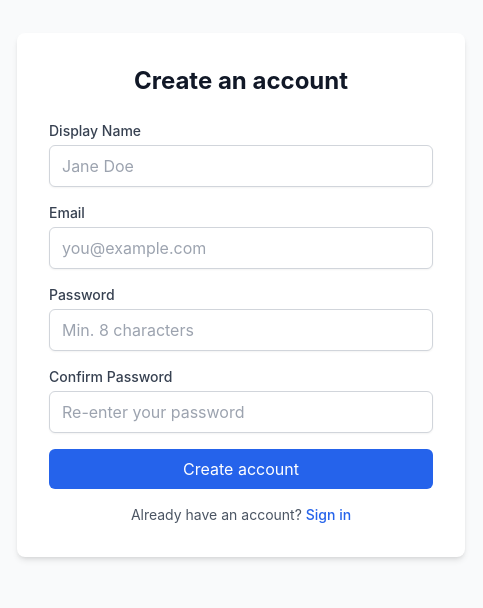
Test case: RegisterPage › should show error when passwords do not match
Type "New User" into the field labelled "Display Name".
click(241, 166); type("New User")  # box [49,145,433,187]
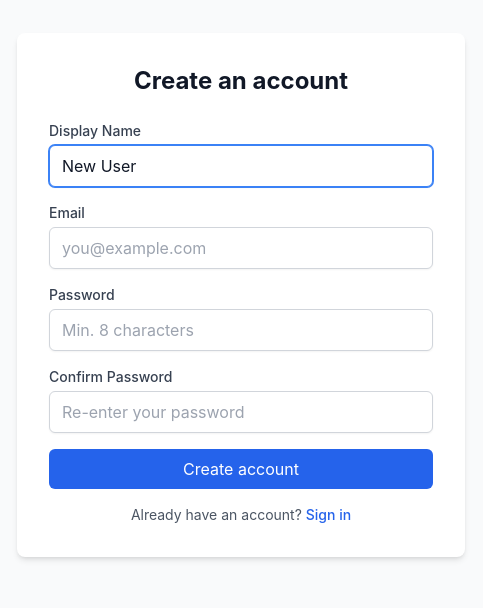
Type "newuser@example.com" into the field labelled "Email".
click(241, 248); type("newuser@example.com")  # box [49,227,433,269]
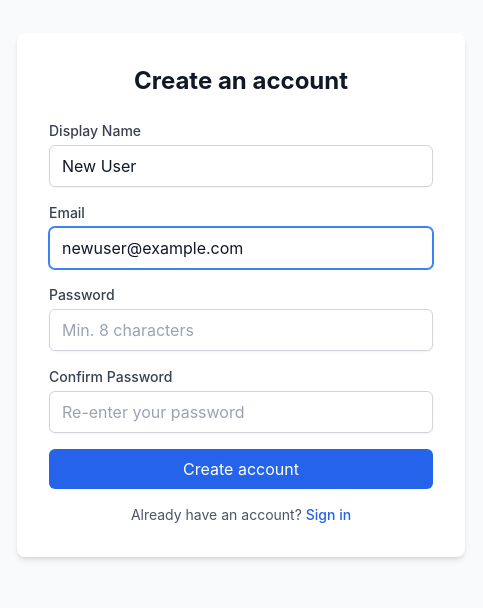
Type "password123" into the password field labelled "Password".
click(241, 330); type("password123")  # box [49,309,433,351]
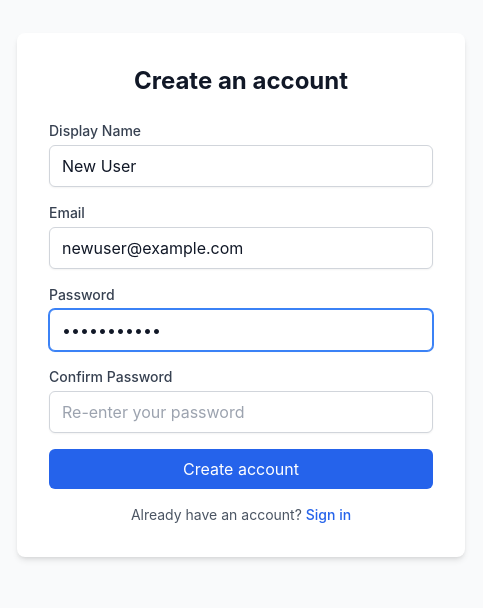
Type "different" into the password field labelled "Confirm Password".
click(241, 412); type("different")  # box [49,391,433,433]
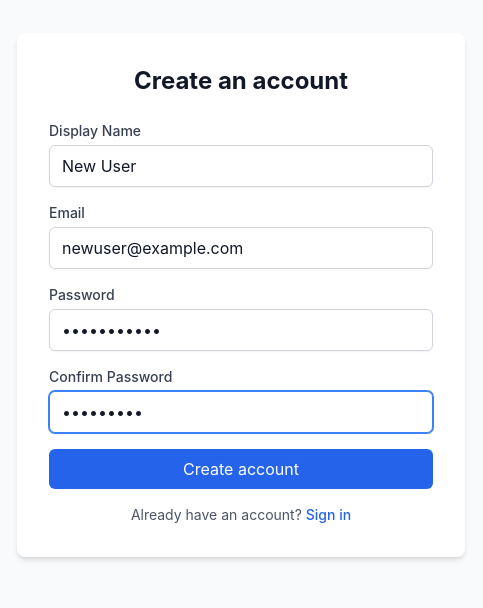
Click the button "Create account".
click(241, 469)  # box [49,449,433,489]
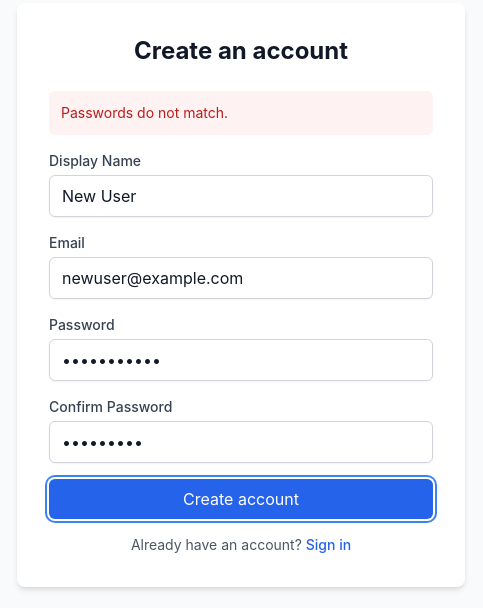
Check: the message reads "Passwords do not match.", box [61,104,228,121]
